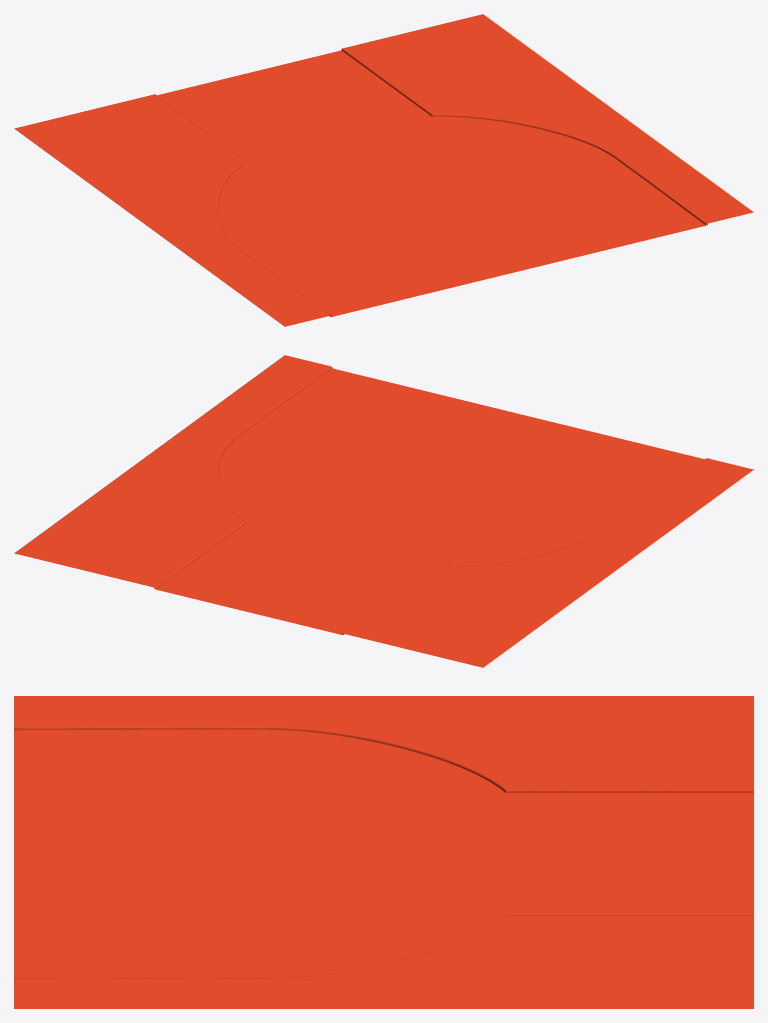
Rendered from SM_FreewayToMainroad_30x30_City.fbx.
3 renders of one model, top to bottom at view 1: azimuth 30°, elevation 25°; view 2: azimuth 150°, elevation 25°; view 3: azimuth 270°, elevation 25°, orthographic. The views are drawn at different scales.
Parts seen in each view (by area): view 1: SM_FreewayToMainroad_30x30_City; view 2: SM_FreewayToMainroad_30x30_City; view 3: SM_FreewayToMainroad_30x30_City.
Boxes of the visible parts, left/top/right/bottom form: SM_FreewayToMainroad_30x30_City: left=14, top=14, right=753, bottom=326; SM_FreewayToMainroad_30x30_City: left=14, top=355, right=753, bottom=667; SM_FreewayToMainroad_30x30_City: left=14, top=696, right=753, bottom=1008.
Size of the model in its own units: 30 by 0.1084 by 30.
